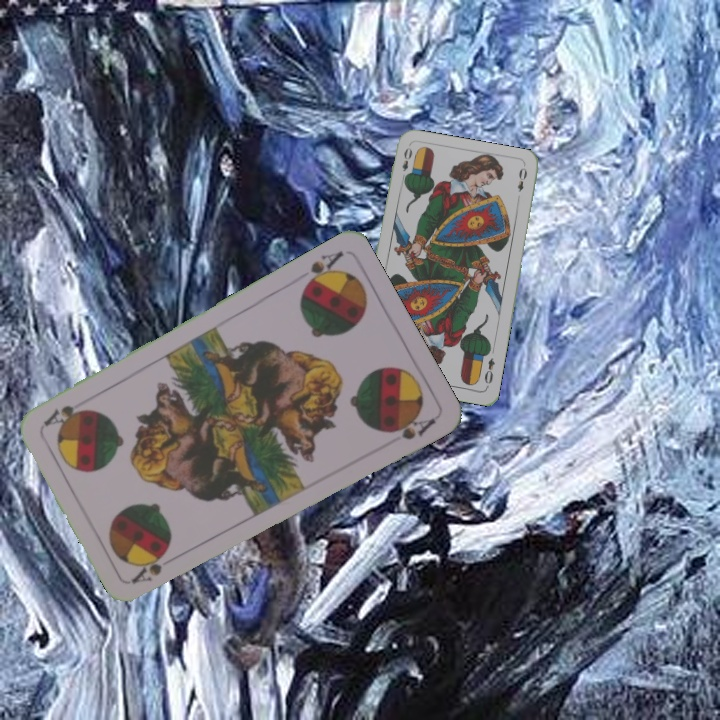EO: (397, 143, 415, 183), (480, 354, 497, 390)
SA: (298, 247, 346, 293), (128, 559, 165, 586)
